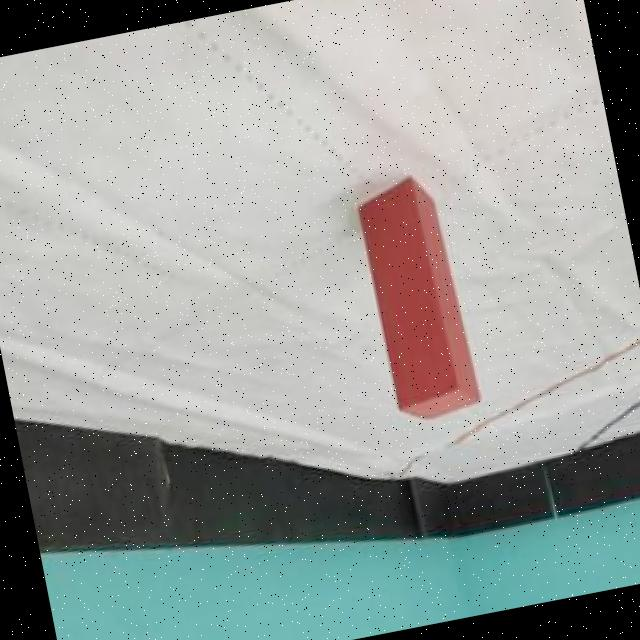redbox: (356, 169, 483, 428)
